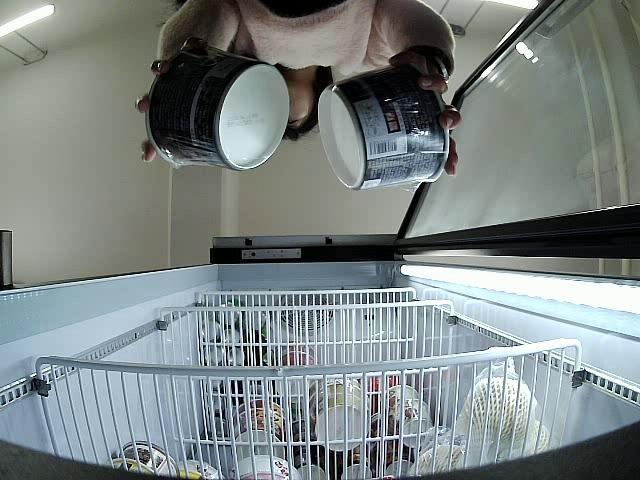07_buldak_L: (148, 43, 292, 174), (318, 66, 450, 190)
